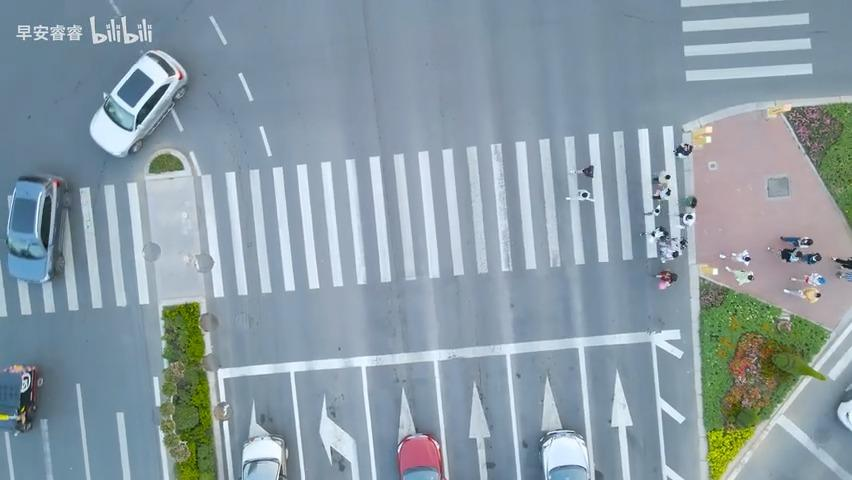Civilian: (563, 184, 600, 207), (637, 223, 669, 245), (779, 248, 821, 264), (676, 188, 708, 209), (724, 265, 754, 286), (782, 287, 821, 303), (655, 241, 682, 264), (642, 199, 666, 221), (767, 246, 800, 262), (655, 268, 677, 290), (647, 166, 675, 183), (790, 273, 825, 286), (652, 183, 673, 204), (674, 209, 698, 227), (780, 235, 813, 246), (568, 164, 594, 177), (731, 249, 751, 265), (830, 255, 851, 269), (673, 142, 693, 156), (650, 225, 666, 240), (834, 268, 851, 281)
